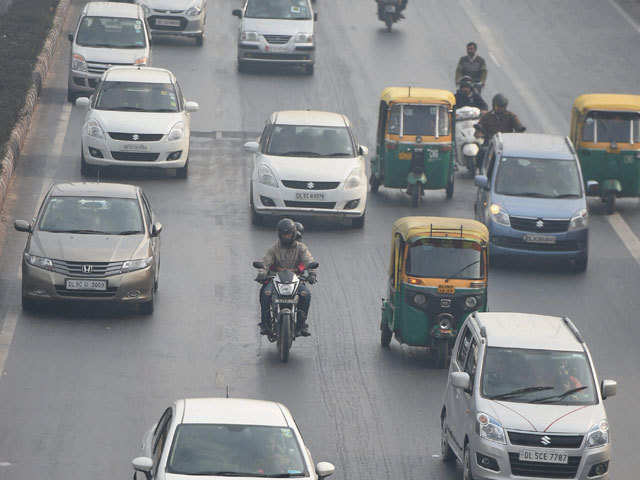bike: (257, 217, 305, 360), (454, 75, 483, 178)
car: (441, 311, 609, 480), (21, 182, 162, 325), (477, 134, 589, 273), (135, 396, 318, 480), (251, 111, 368, 226), (82, 66, 188, 178), (73, 2, 149, 91), (235, 1, 315, 71), (137, 1, 206, 50)
rickshaw: (381, 223, 489, 359), (378, 90, 454, 203), (574, 97, 640, 213)
